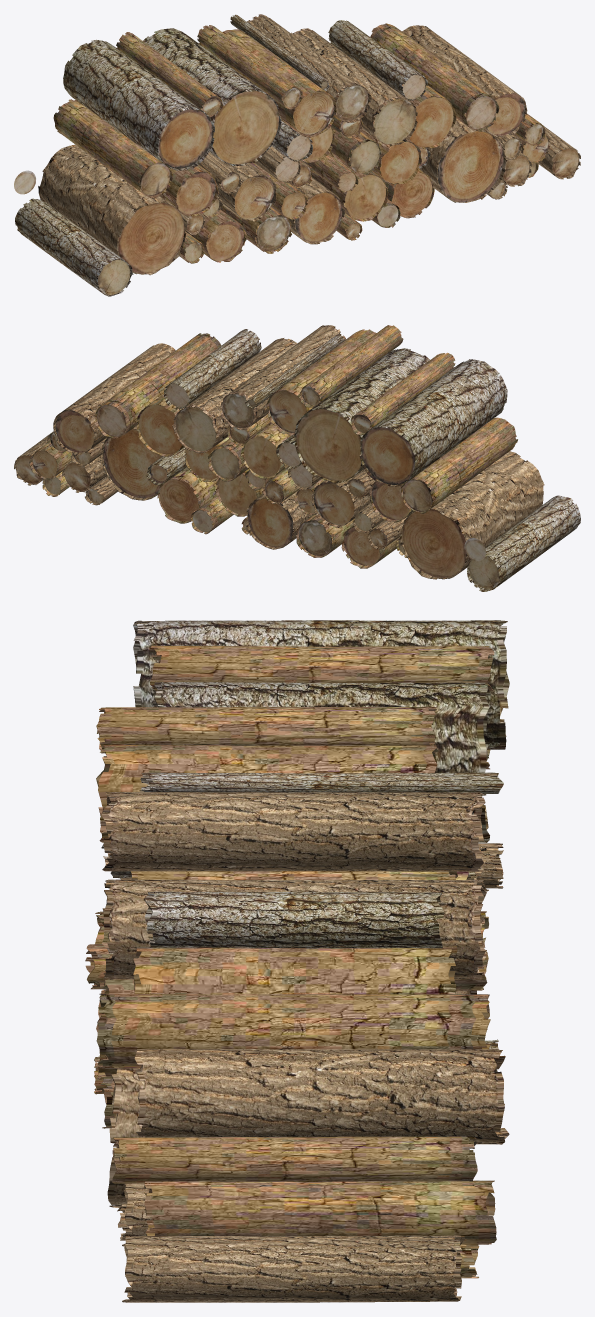
3 views of the same model, one above another, from view 1: azimuth 30°, elevation 25°; view 2: azimuth 150°, elevation 25°; view 3: azimuth 270°, elevation 25° (orthographic). The views are drawn at different scales.
Visible parts, largest first — view 1: nongju_58; view 2: nongju_58; view 3: nongju_58.
Part boxes in pixels (x1,y1,x2,y2): nongju_58: (14,14,580,296); nongju_58: (14,325,580,591); nongju_58: (85,620,509,1302).
Bounding box in the file's own units: 171 × 56.03 × 65.9.
Materials: 4 (4 with a texture image).
